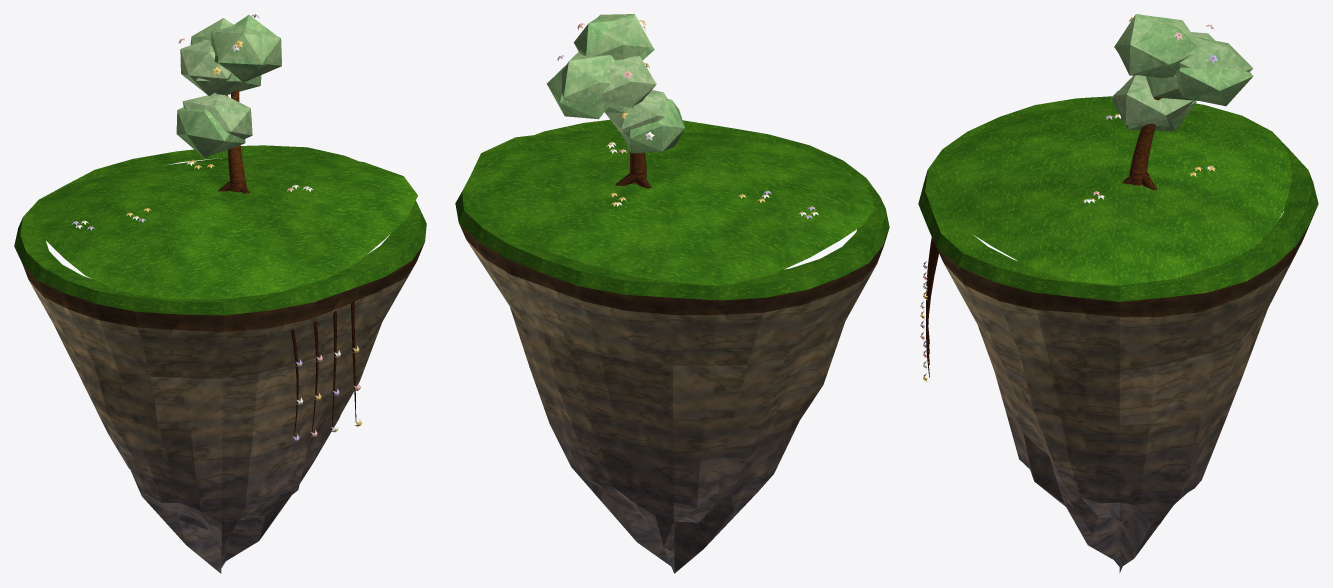
Rendered from islet_garden_a.glb.
3 views of the same model, side by side, from view 1: azimuth 30°, elevation 25°; view 2: azimuth 150°, elevation 25°; view 3: azimuth 270°, elevation 25° (orthographic). The views are drawn at different scales.
Parts seen in each view (by area): view 1: islet_garden_a; view 2: islet_garden_a; view 3: islet_garden_a.
Boxes of the visible parts, <box> form: islet_garden_a: <box>14,14,426,573</box>; islet_garden_a: <box>455,14,889,573</box>; islet_garden_a: <box>918,14,1318,572</box>.
Bounding box in the file's own units: 10.42 × 14.28 × 8.99.
5 materials, 4 textured.
